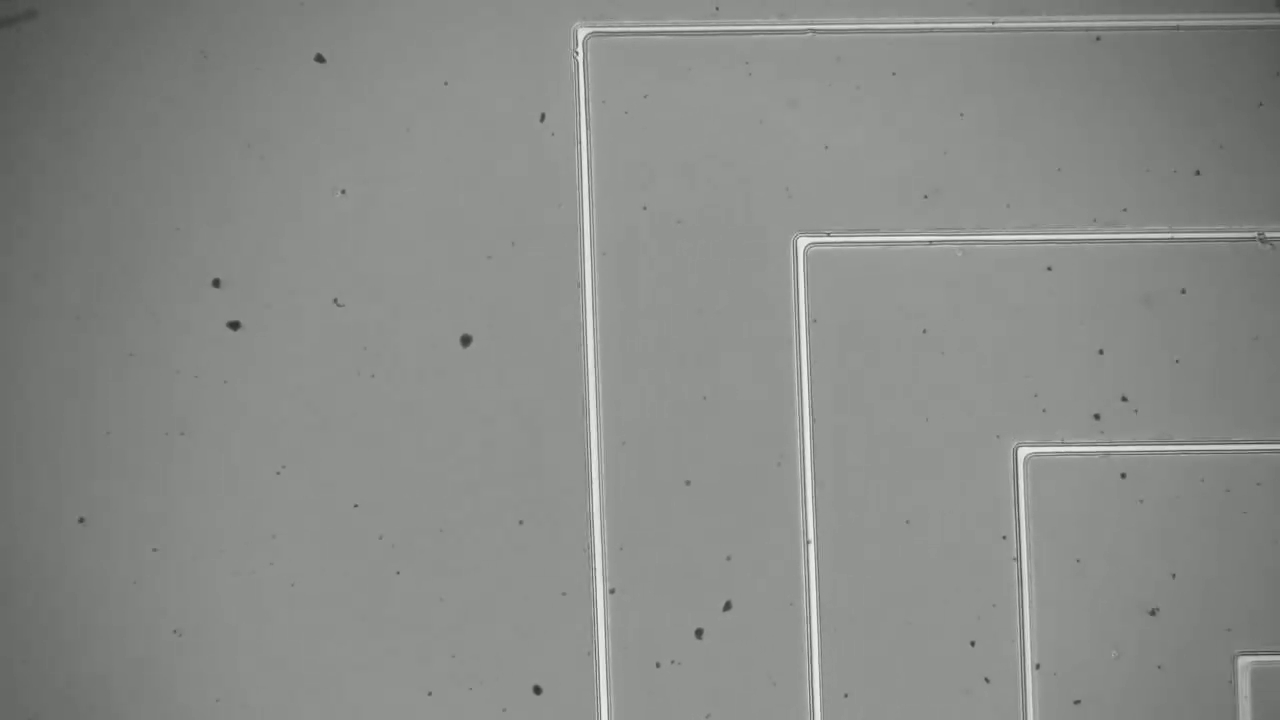stains_enbedded: (1248, 219, 1280, 260)
